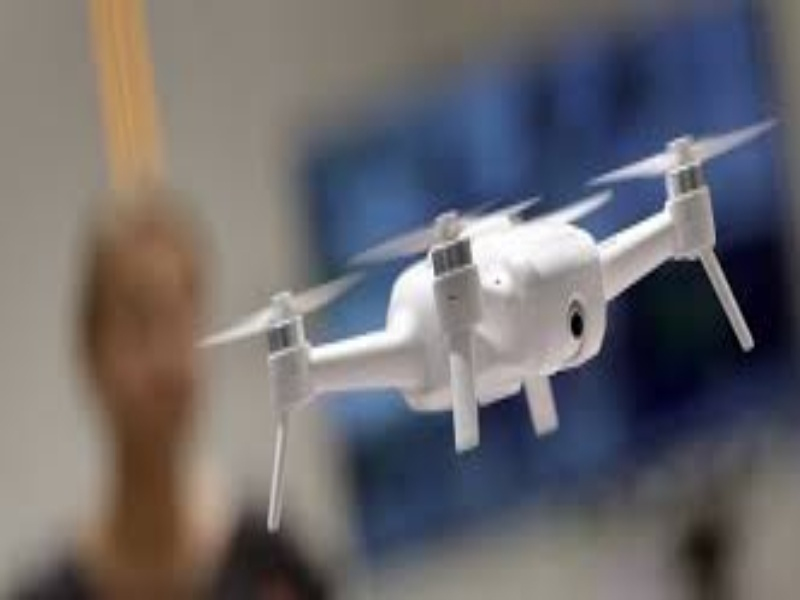drone: (225, 130, 756, 527)
